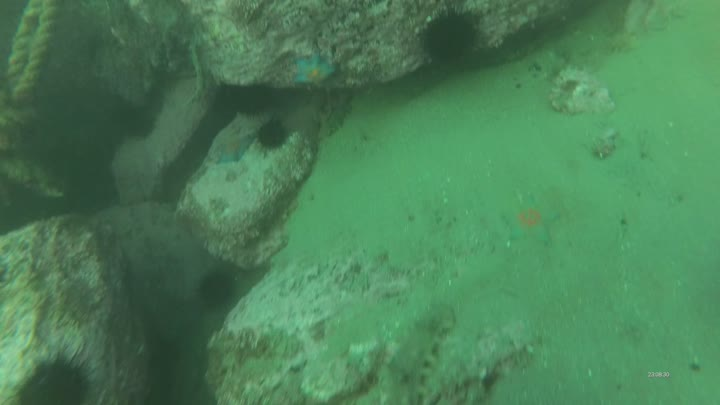echinus: (11, 350, 97, 405), (421, 11, 480, 66), (226, 82, 276, 123), (193, 268, 238, 307), (258, 117, 290, 148)
holothurian: (374, 305, 456, 405)
starfish: (501, 192, 561, 247), (296, 56, 336, 90)
